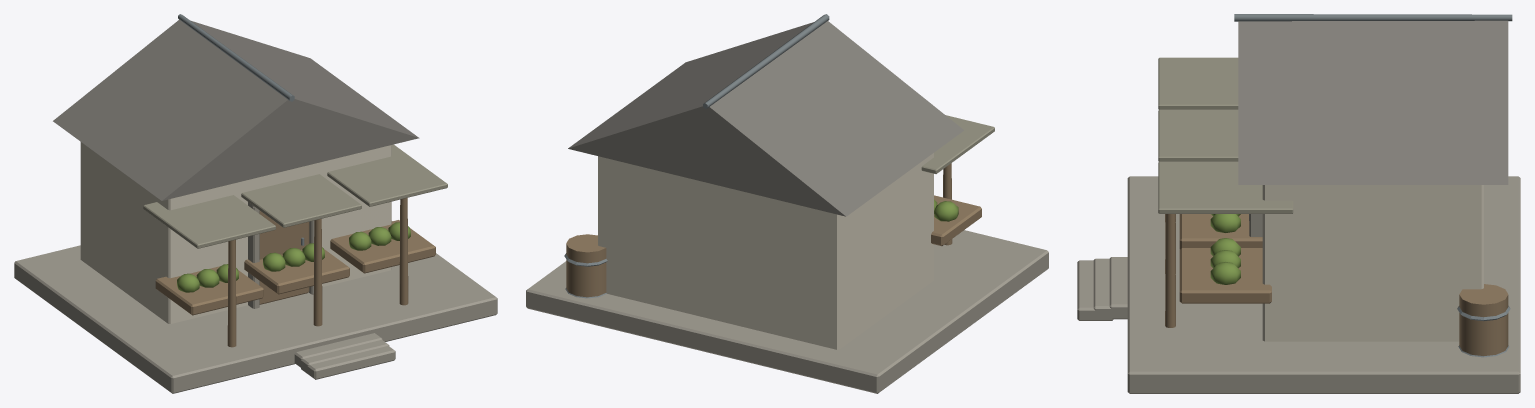
File: bld_marche_a01.glb
The picture shows the model from 3 angles, left to right: view 1: azimuth 30°, elevation 25°; view 2: azimuth 150°, elevation 25°; view 3: azimuth 270°, elevation 25°; orthographic projection. The views are drawn at different scales.
Visible parts, largest first — view 1: bld_marche_a01; view 2: bld_marche_a01; view 3: bld_marche_a01.
Boxes of the visible parts, box(x1,y1,x2,y2) form: bld_marche_a01: box(14, 14, 497, 393); bld_marche_a01: box(526, 14, 1048, 393); bld_marche_a01: box(1077, 14, 1520, 393).
Size of the model in its own units: 3.8 by 2.55 by 3.61.
